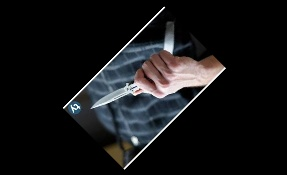k1: (88, 81, 135, 110)
